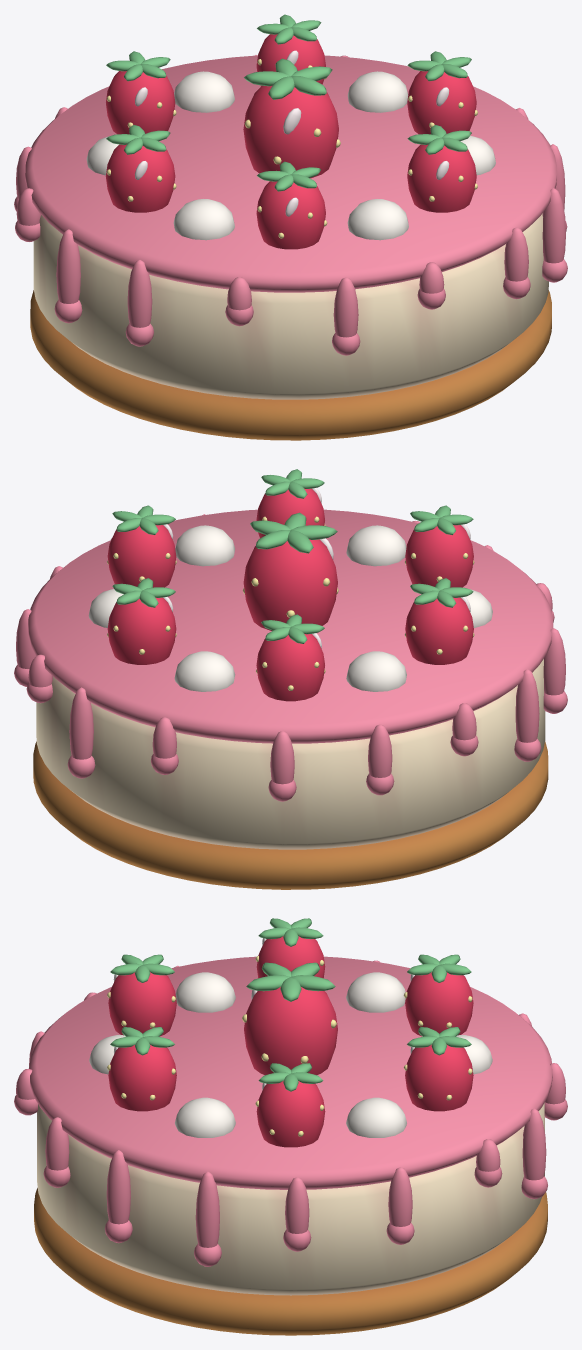
The model's file is cheesefull.glb.
3 views of the same model, one above another, from view 1: azimuth 30°, elevation 25°; view 2: azimuth 150°, elevation 25°; view 3: azimuth 270°, elevation 25° (orthographic).
Visible parts, largest first — view 1: gf48fa8, cake.001, gf04466, crust, cfffaf3, c7cc68a, gfff3f5, cfff1a8; view 2: gf48fa8, cake.001, gf04466, crust, cfffaf3, c7cc68a, cfff1a8; view 3: gf48fa8, cake.001, gf04466, crust, cfffaf3, c7cc68a, cfff1a8.
Part boxes in pixels (left/top/right/bottom): gf48fa8: left=14, top=55, right=567, bottom=355; cake.001: left=33, top=213, right=548, bottom=399; gf04466: left=105, top=34, right=476, bottom=249; crust: left=30, top=290, right=551, bottom=440; cfffaf3: left=86, top=71, right=495, bottom=240; c7cc68a: left=106, top=14, right=471, bottom=191; gfff3f5: left=134, top=50, right=449, bottom=216; cfff1a8: left=106, top=59, right=477, bottom=238; gf48fa8: left=14, top=509, right=567, bottom=801; cake.001: left=36, top=659, right=545, bottom=849; gf04466: left=107, top=488, right=473, bottom=701; crust: left=33, top=741, right=548, bottom=889; cfffaf3: left=88, top=525, right=492, bottom=691; c7cc68a: left=112, top=469, right=473, bottom=643; cfff1a8: left=107, top=516, right=474, bottom=690; gf48fa8: left=14, top=956, right=567, bottom=1266; cake.001: left=37, top=1102, right=544, bottom=1295; gf04466: left=108, top=936, right=473, bottom=1147; crust: left=34, top=1188, right=547, bottom=1335; cfffaf3: left=89, top=972, right=492, bottom=1137; c7cc68a: left=110, top=918, right=471, bottom=1091; cfff1a8: left=107, top=956, right=472, bottom=1136.
Size of the model in its own units: 0.905 by 0.465 by 0.9057.
